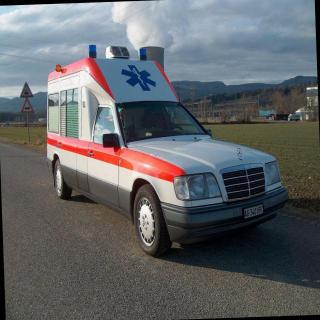Ambulance: (28, 29, 295, 260)
